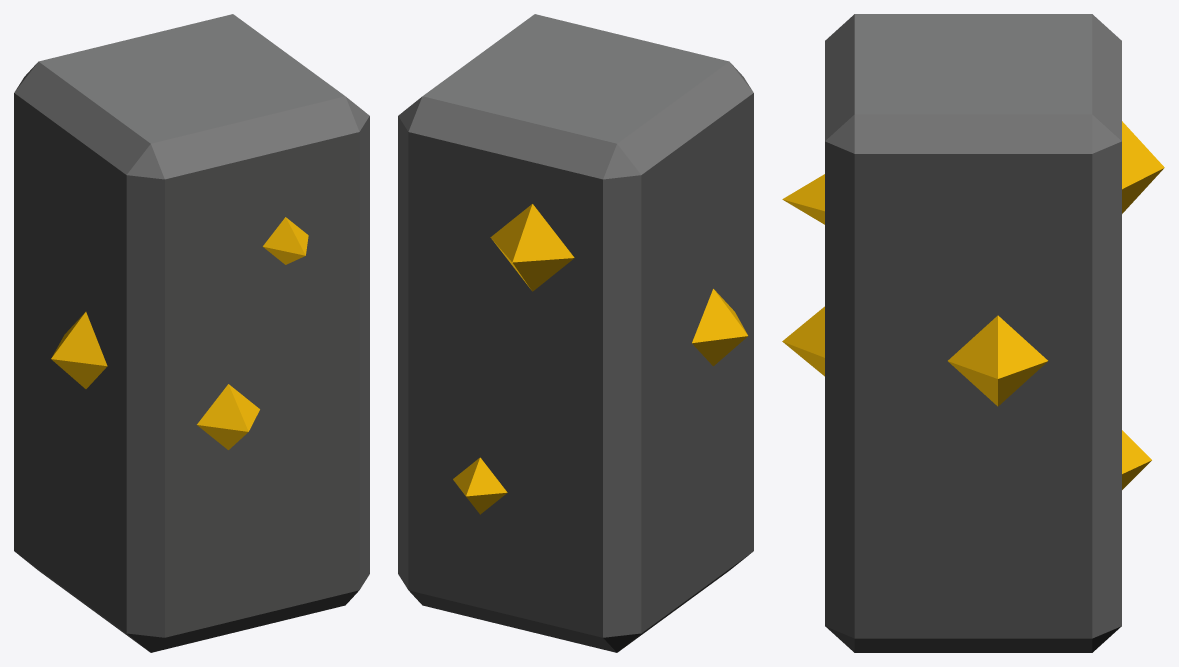
File: m_kub_ore_vrick.FBX
3 views of the same model, side by side, from view 1: azimuth 30°, elevation 25°; view 2: azimuth 150°, elevation 25°; view 3: azimuth 270°, elevation 25° (orthographic). The views are drawn at different scales.
Parts seen in each view (by area): view 1: m_kub_ore_vrick; view 2: m_kub_ore_vrick; view 3: m_kub_ore_vrick.
Part boxes in pixels (x1,y1,x2,y2): m_kub_ore_vrick: [14, 14, 369, 652]; m_kub_ore_vrick: [398, 14, 753, 652]; m_kub_ore_vrick: [782, 14, 1164, 652].
Bounding box in the file's own units: 1.29 × 2 × 1.29.
